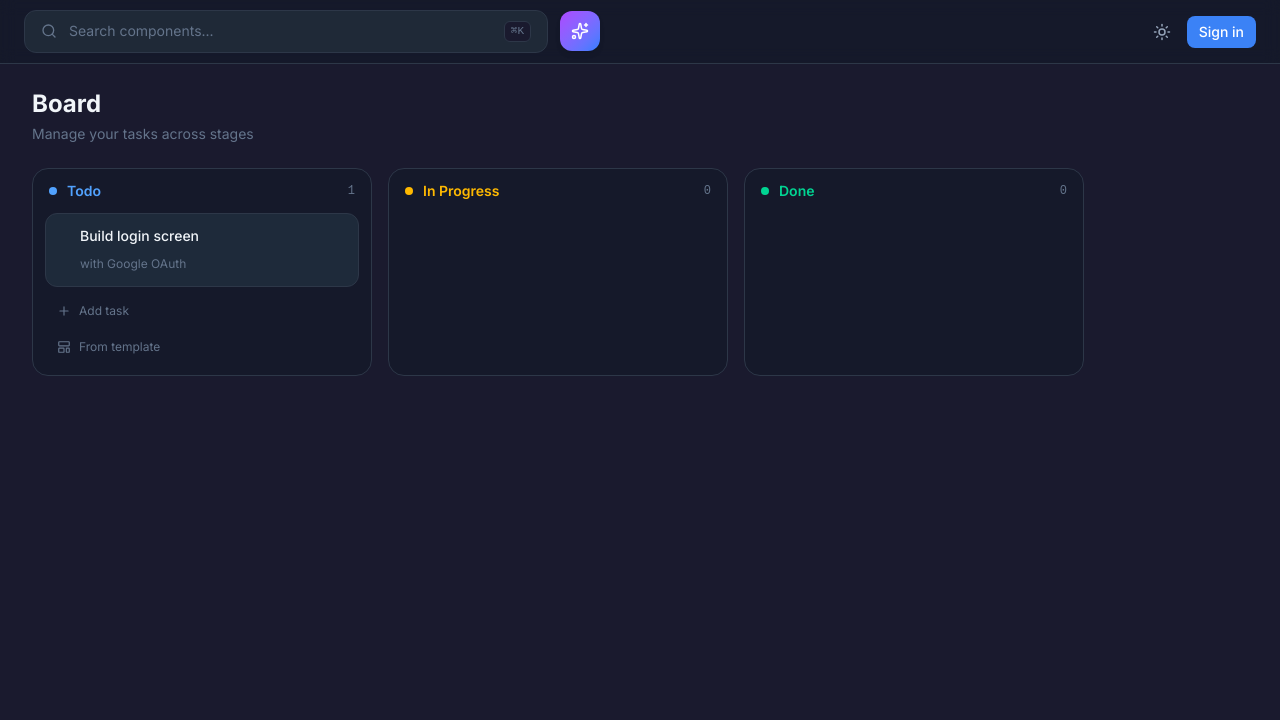
BoardPage Re-plan button › does NOT render the Re-plan button when status is todo
What coordinates should you click on to do the following:
click the heading "Build login screen"
I would click on:
 (140, 236)
Its box is [80,226,199,245].
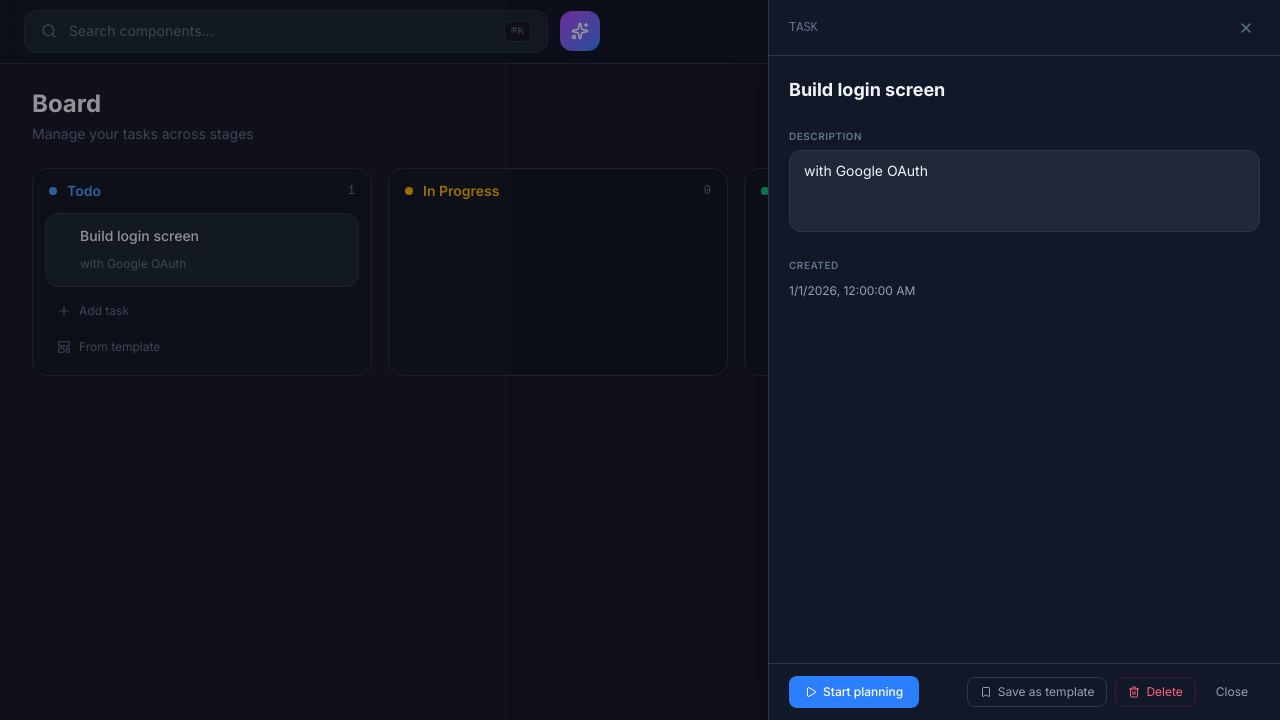
Result: the text "TASK" is shown at [789,20,818,36]
